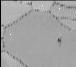good_void: (54, 35, 63, 45)
